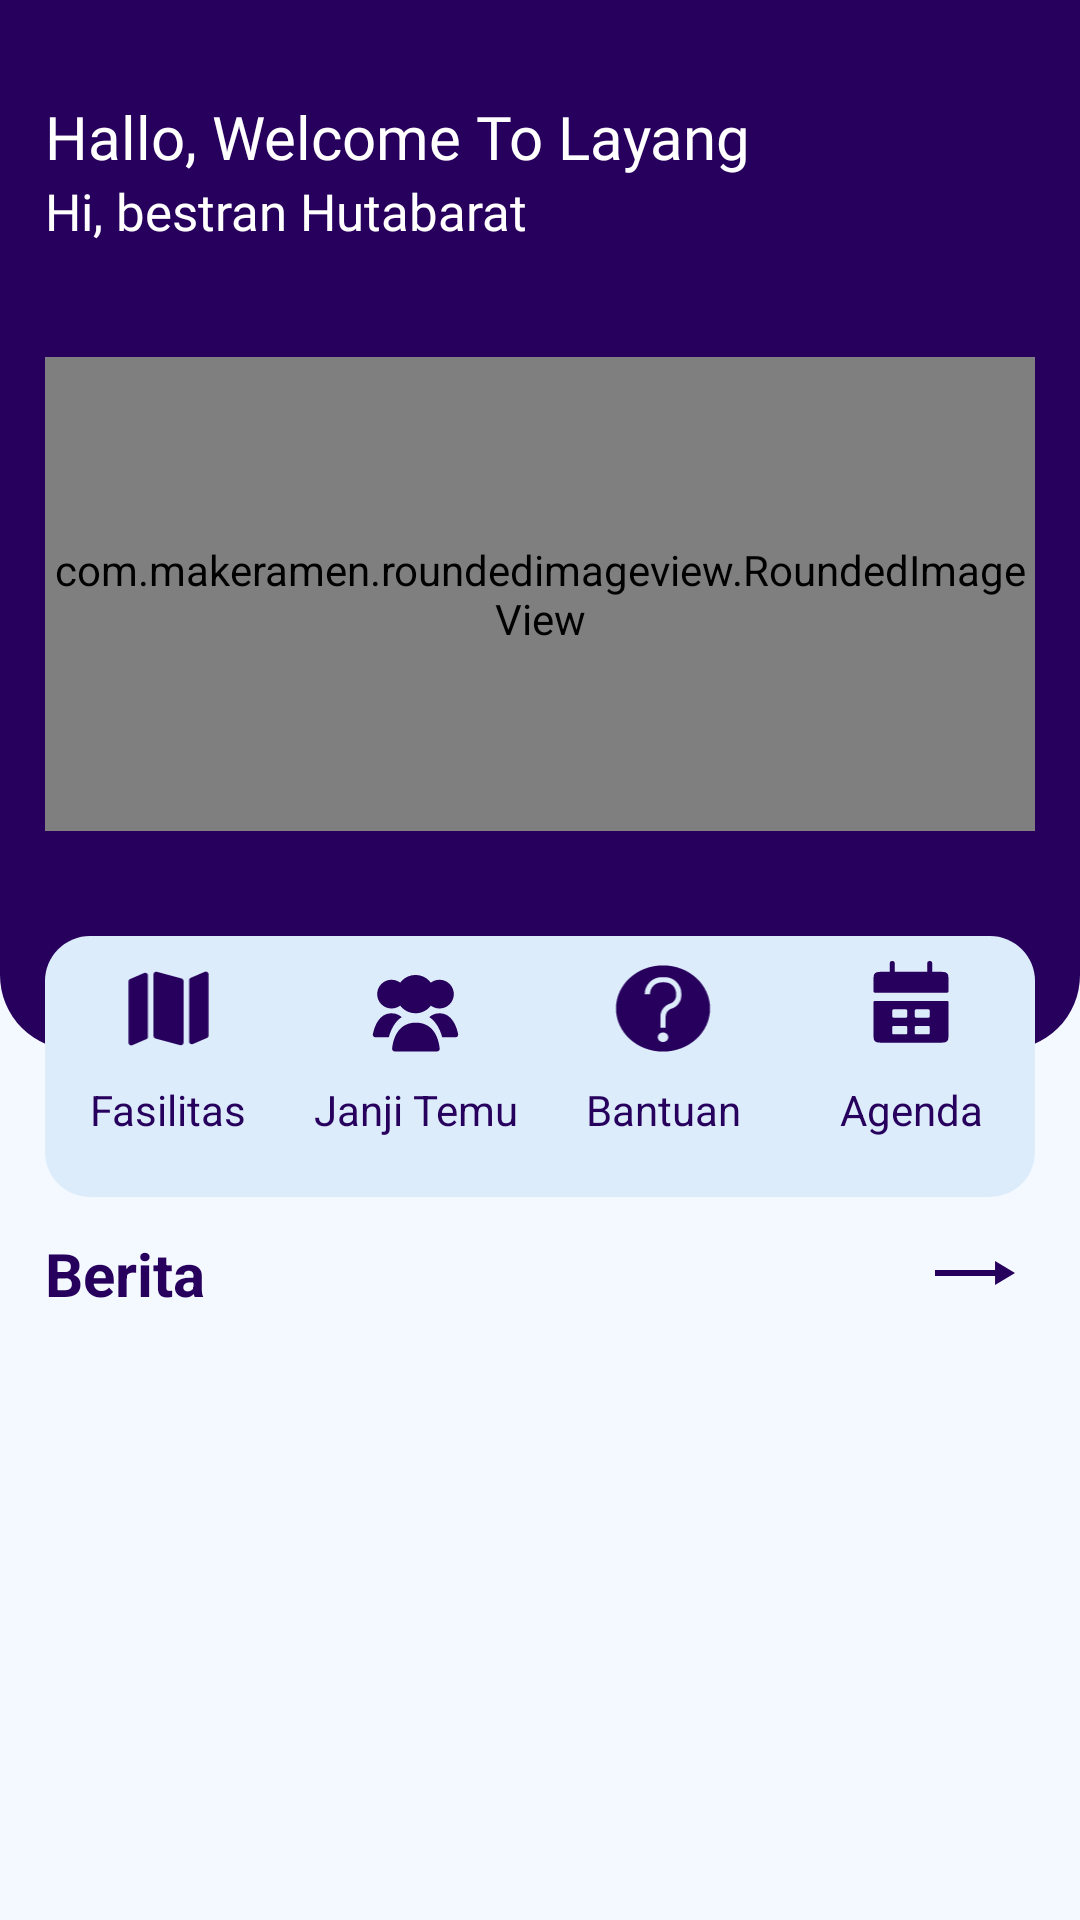

Screen size 1080×1920. Icon name, then its center in pixels as [x,y]:
calender: [911,1002]
